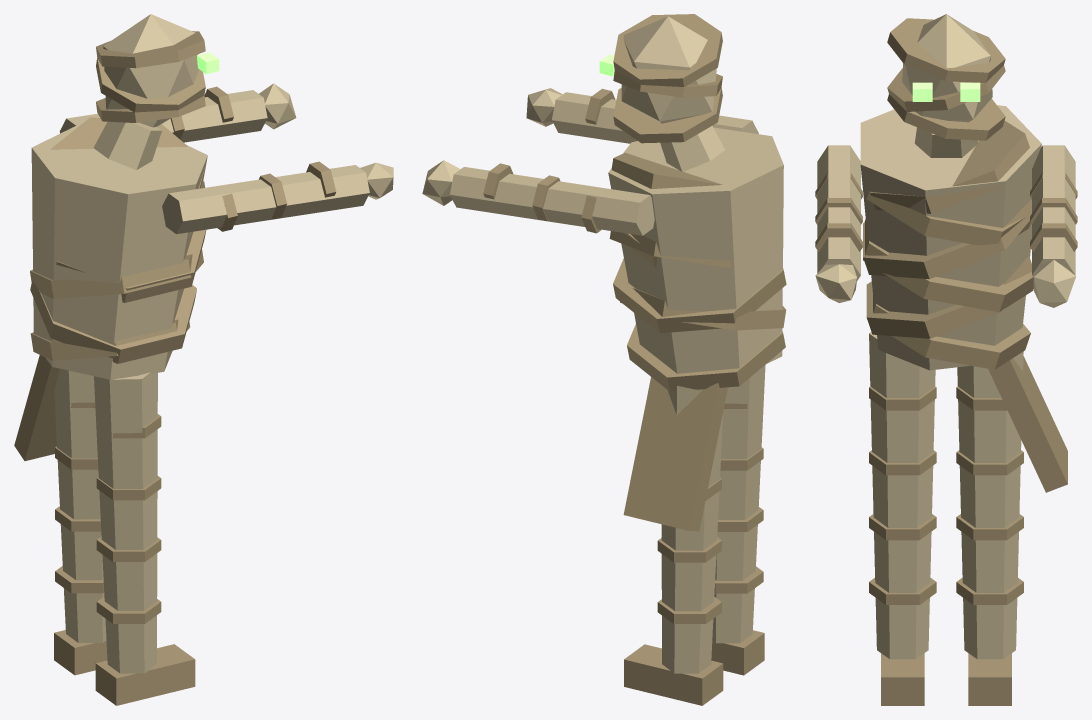
The model's file is mumie.glb.
3 renders of one model, left to right at view 1: azimuth 30°, elevation 25°; view 2: azimuth 150°, elevation 25°; view 3: azimuth 270°, elevation 25°, orthographic. The views are drawn at different scales.
Parts seen in each view (by area): view 1: Kropp, BenH, BenV, ArmH, ArmV; view 2: Kropp, BenV, BenH, ArmV, ArmH; view 3: Kropp, BenH, BenV, ArmV, ArmH.
Boxes of the visible parts, x1,y1,x2,y2 form: Kropp: (14,14,219,460); BenH: (94,372,195,705); BenV: (54,368,107,675); ArmH: (162,161,393,234); ArmV: (59,83,296,142); Kropp: (599,14,786,531); BenV: (624,386,723,705); BenH: (711,365,765,675); ArmV: (422,160,654,235); ArmH: (526,88,758,143); Kropp: (860,14,1067,492); BenH: (869,332,936,705); BenV: (956,351,1023,705); ArmV: (1030,145,1077,307); ArmH: (815,145,862,302).
Bounding box in the file's own units: 0.9141 × 1.9 × 0.66.
